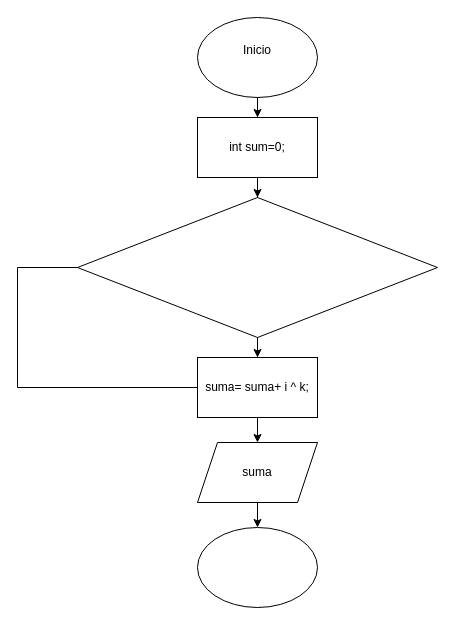
Image size: 455x625. Some labels were removed from this diagram. The shapes that lost their labels are listed below. From the top down, each one's box as (x1, y1, x2, y2) in pixels, then its label:
(76, 196, 438, 338): para i=1, hasta que i sea mayor o igual que n, i++
(196, 526, 318, 608): Fin
